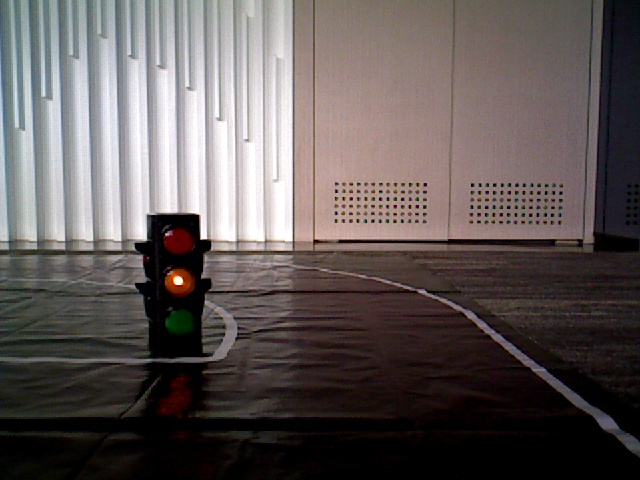yellow: (150, 214, 198, 354)
